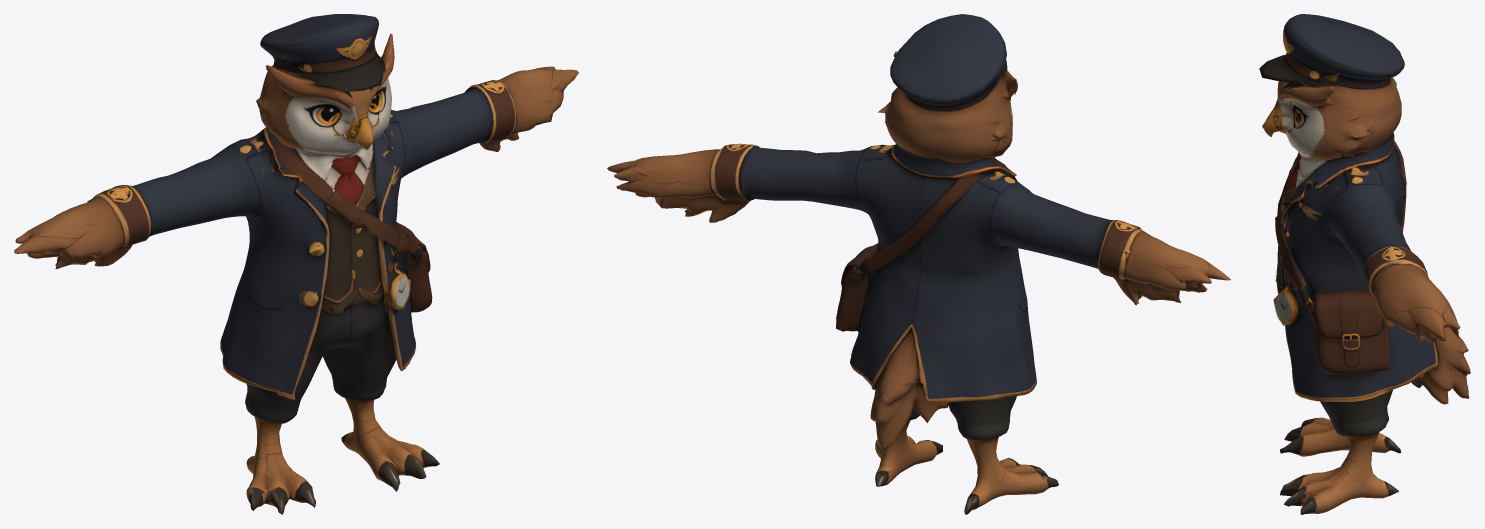
The model's file is horace_pennyfeather_v1.glb.
The picture shows the model from 3 angles, left to right: view 1: azimuth 30°, elevation 25°; view 2: azimuth 150°, elevation 25°; view 3: azimuth 270°, elevation 25°; orthographic projection. The views are drawn at different scales.
Parts seen in each view (by area): view 1: tripo_node_3c29897d; view 2: tripo_node_3c29897d; view 3: tripo_node_3c29897d.
Part boxes in pixels (bbox=[...]): tripo_node_3c29897d: bbox=[14, 14, 578, 514]; tripo_node_3c29897d: bbox=[607, 14, 1230, 514]; tripo_node_3c29897d: bbox=[1259, 14, 1470, 514].
Size of the model in its own units: 0.9974 by 0.7383 by 0.311.
Materials: 1 (1 with a texture image).
